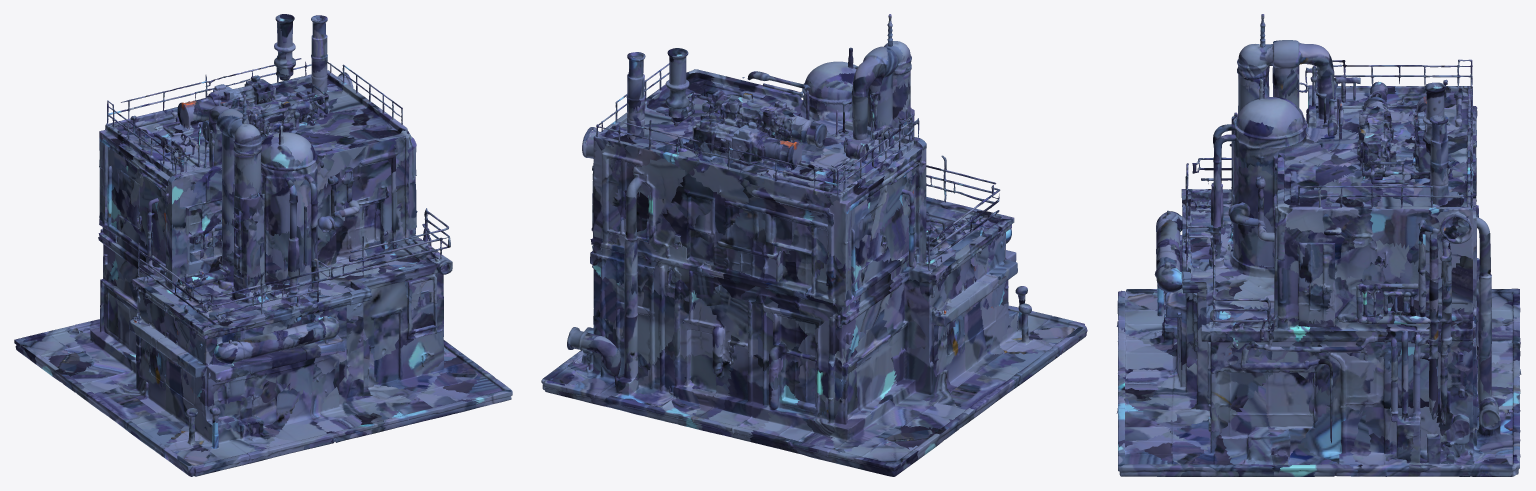
Rendered from factory_1.glb.
3 renders of one model, left to right at view 1: azimuth 30°, elevation 25°; view 2: azimuth 150°, elevation 25°; view 3: azimuth 270°, elevation 25°, orthographic. The views are drawn at different scales.
Parts seen in each view (by area): view 1: Node #0; view 2: Node #0; view 3: Node #0.
Boxes of the visible parts, x1=… form: Node #0: x1=14, y1=14, x2=512, y2=476; Node #0: x1=541, y1=14, x2=1087, y2=476; Node #0: x1=1116, y1=14, x2=1521, y2=476.
Size of the model in its own units: 2 by 1.83 by 1.91.
Materials: 1 (1 with a texture image).
